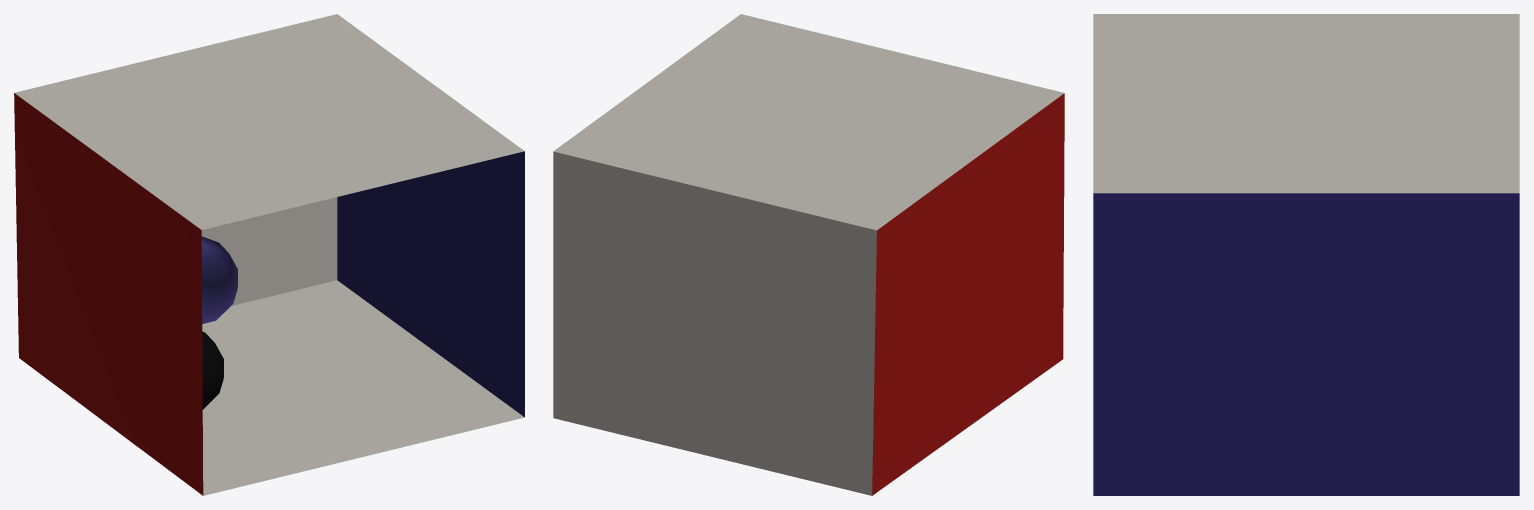
The model's file is CornellBox-Sphere-135.obj.
3 renders of one model, left to right at view 1: azimuth 30°, elevation 25°; view 2: azimuth 150°, elevation 25°; view 3: azimuth 270°, elevation 25°, orthographic. The views are drawn at different scales.
Visible parts, largest first — view 1: ceiling, leftWall, floor, rightWall, backWall, leftSphere, rightSphere; view 2: backWall, ceiling, leftWall; view 3: rightWall, ceiling.
Part boxes in pixels (box(x1,y1,x2,y2)): ceiling: box(14, 14, 524, 229); leftWall: box(14, 93, 203, 495); floor: box(202, 280, 524, 495); rightWall: box(337, 151, 524, 417); backWall: box(201, 197, 337, 305); leftSphere: box(201, 236, 237, 323); rightSphere: box(202, 331, 223, 409); backWall: box(553, 151, 876, 495); ceiling: box(553, 14, 1064, 230); leftWall: box(872, 93, 1064, 495); rightWall: box(1093, 193, 1519, 495); ceiling: box(1093, 14, 1519, 193).
Size of the model in its own units: 2.02 by 1.59 by 2.03.
